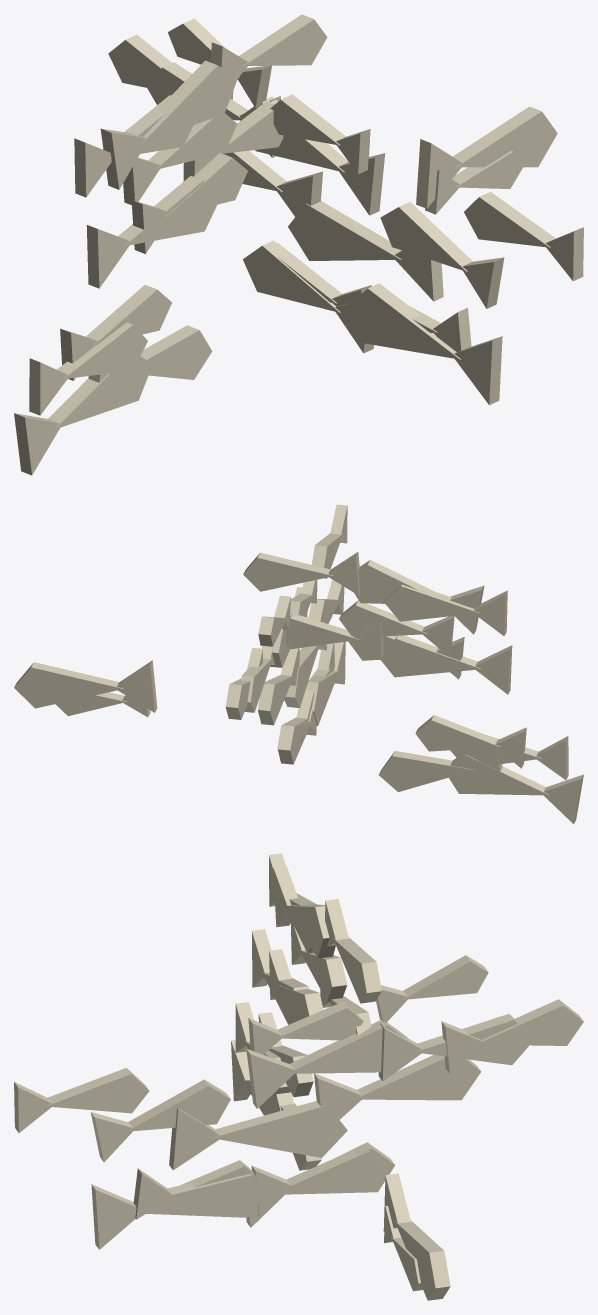
The model's file is sunken-city-and-underwater-ruins-fish-shoal-plate-0fcb472c__36998.glb.
3 renders of one model, top to bottom at view 1: azimuth 30°, elevation 25°; view 2: azimuth 150°, elevation 25°; view 3: azimuth 270°, elevation 25°, orthographic. The views are drawn at different scales.
Visible parts, largest first — view 1: fish-shoal-plate; view 2: fish-shoal-plate; view 3: fish-shoal-plate.
Part boxes in pixels (box(x1,y1,x2,y2)): fish-shoal-plate: box(14, 14, 583, 475); fish-shoal-plate: box(14, 504, 583, 824); fish-shoal-plate: box(14, 853, 583, 1300).
Bounding box in the file's own units: 3.51 × 1.73 × 2.89.
